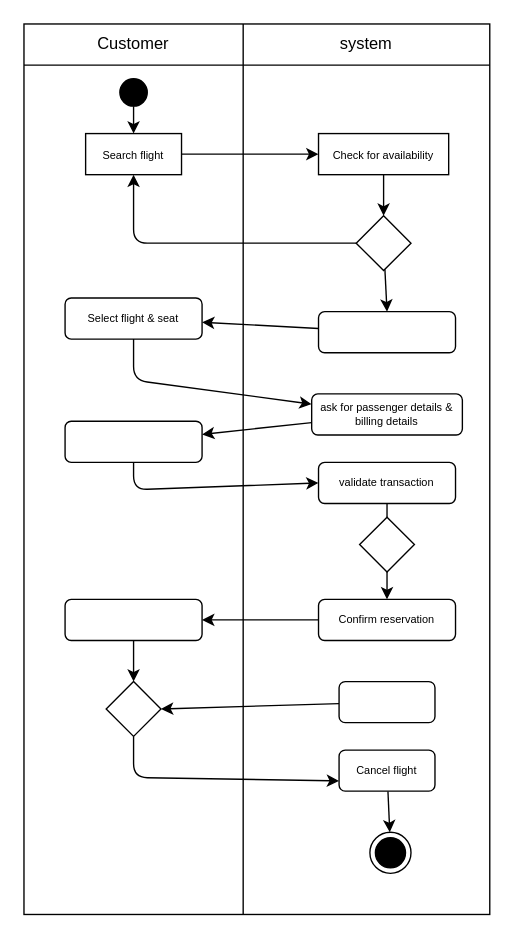
Some shapes in this 514 by 938 pixel diagram are drawn without their labels. The centre of each missing label's shape, as x and y in pixels:
Check availabity & provide price: the point at 386,331
Enter the passenger details: the point at 133,441
Recieve confirmation: the point at 133,619
Show flight: the point at 386,701
